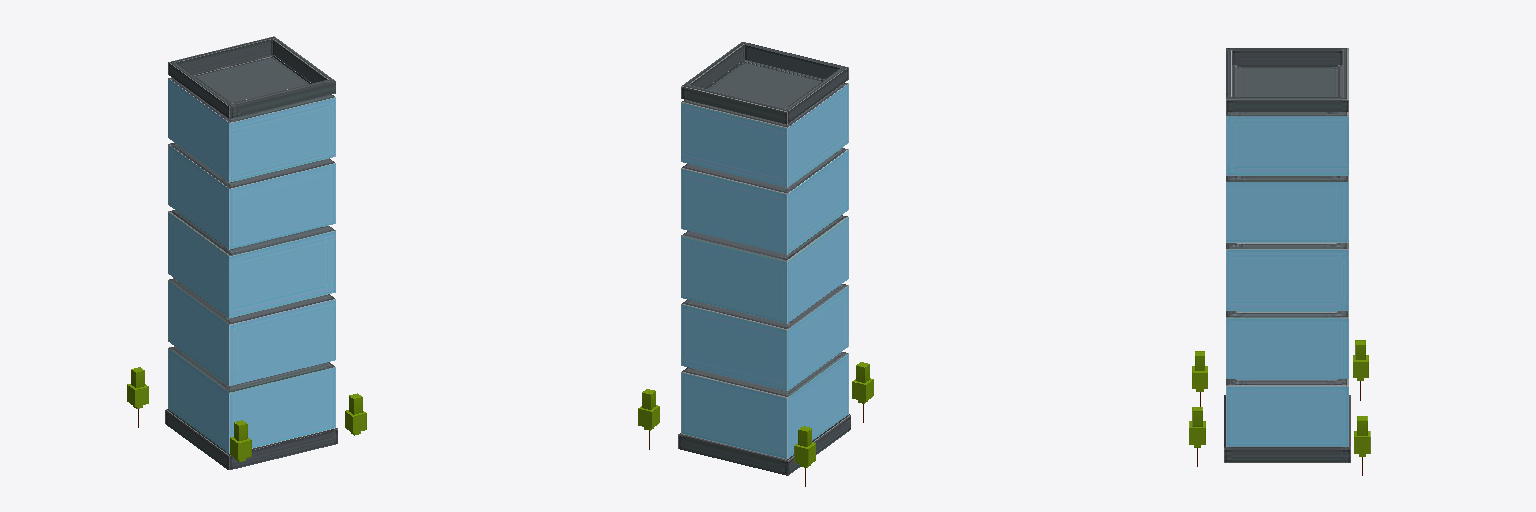
3 renders of one model, left to right at view 1: azimuth 30°, elevation 25°; view 2: azimuth 150°, elevation 25°; view 3: azimuth 270°, elevation 25°, orthographic.
Parts seen in each view (by area): view 1: business_tower_2lvl_Mesh.4805, Tree_2_3_61.056_Mesh.319, Tree_2_3_61.054_Mesh.317, Tree_2_3_61.055_Mesh.318; view 2: business_tower_2lvl_Mesh.4805, Tree_2_3_61.056_Mesh.319, Tree_2_3_61.057_Mesh.320, Tree_2_3_61.054_Mesh.317; view 3: business_tower_2lvl_Mesh.4805, Tree_2_3_61.055_Mesh.318, Tree_2_3_61.057_Mesh.320, Tree_2_3_61.056_Mesh.319, Tree_2_3_61.054_Mesh.317.
Part boxes in pixels (bbox=[...]): business_tower_2lvl_Mesh.4805: bbox=[165, 36, 337, 469]; Tree_2_3_61.056_Mesh.319: bbox=[127, 367, 148, 427]; Tree_2_3_61.054_Mesh.317: bbox=[230, 420, 251, 461]; Tree_2_3_61.055_Mesh.318: bbox=[345, 393, 366, 435]; business_tower_2lvl_Mesh.4805: bbox=[678, 42, 850, 475]; Tree_2_3_61.056_Mesh.319: bbox=[794, 426, 815, 486]; Tree_2_3_61.057_Mesh.320: bbox=[638, 389, 659, 449]; Tree_2_3_61.054_Mesh.317: bbox=[852, 362, 873, 422]; business_tower_2lvl_Mesh.4805: bbox=[1224, 48, 1350, 462]; Tree_2_3_61.055_Mesh.318: bbox=[1189, 407, 1205, 466]; Tree_2_3_61.057_Mesh.320: bbox=[1354, 416, 1370, 475]; Tree_2_3_61.056_Mesh.319: bbox=[1353, 340, 1368, 400]; Tree_2_3_61.054_Mesh.317: bbox=[1192, 351, 1207, 406].
Size of the model in its own units: 1.91 by 3.94 by 1.77.
Materials: 2 (2 with a texture image).